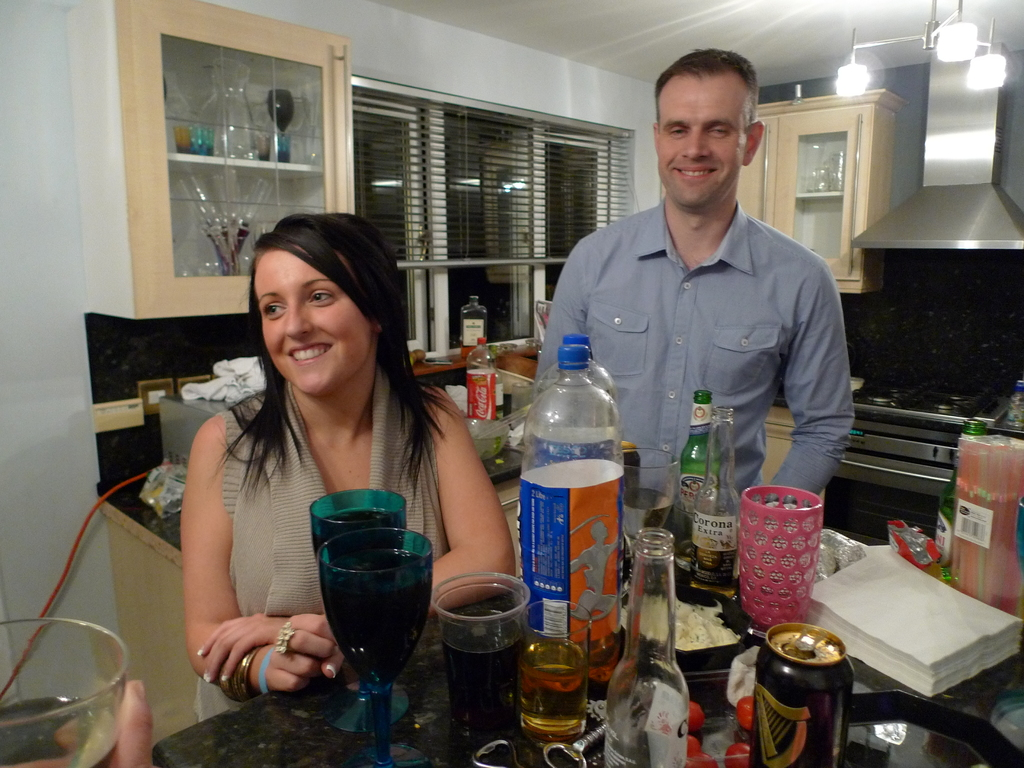Human-face: (251, 243, 370, 403), (657, 68, 744, 202)
